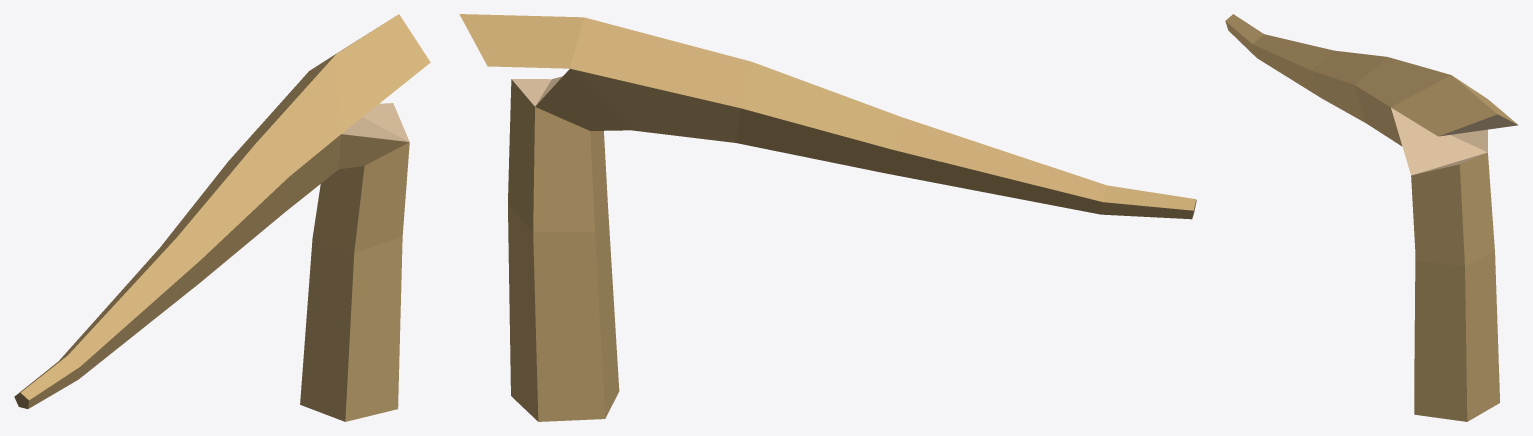
The model's file is Simple_Tree_NoLeaves_crk_m_BT_02.fbx.
The picture shows the model from 3 angles, left to right: view 1: azimuth 30°, elevation 25°; view 2: azimuth 150°, elevation 25°; view 3: azimuth 270°, elevation 25°; orthographic projection. The views are drawn at different scales.
Visible parts, largest first — view 1: Simple_Tree_NoLeaves_crk_m_BT_02; view 2: Simple_Tree_NoLeaves_crk_m_BT_02; view 3: Simple_Tree_NoLeaves_crk_m_BT_02.
Part boxes in pixels (<box>): Simple_Tree_NoLeaves_crk_m_BT_02: <box>14,14,430,421</box>; Simple_Tree_NoLeaves_crk_m_BT_02: <box>459,14,1196,421</box>; Simple_Tree_NoLeaves_crk_m_BT_02: <box>1225,14,1518,421</box>.
Size of the model in its own units: 351 by 224 by 185.
